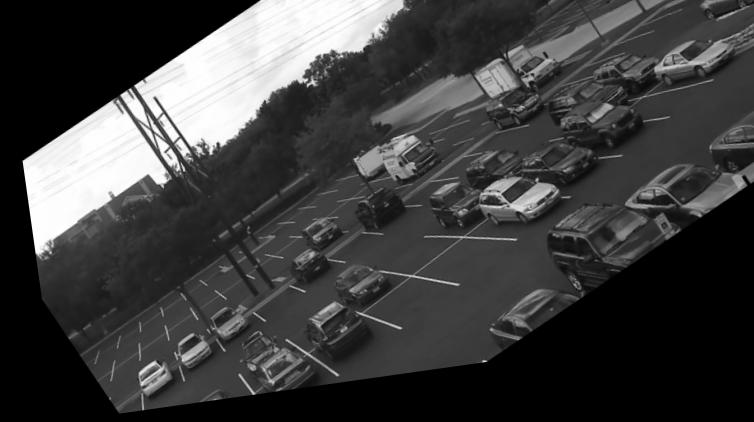empty: (409, 254, 504, 300), (368, 228, 449, 281), (355, 288, 435, 332), (626, 104, 706, 138), (241, 289, 298, 330), (174, 366, 224, 406), (614, 34, 663, 61), (273, 309, 313, 342), (427, 164, 476, 190), (465, 141, 519, 164), (322, 243, 371, 268), (592, 56, 637, 78), (157, 316, 190, 346), (95, 373, 128, 403), (423, 361, 474, 380), (399, 187, 439, 211), (560, 76, 602, 98), (208, 282, 248, 305), (238, 262, 278, 284), (130, 334, 161, 362), (184, 300, 218, 325), (417, 134, 460, 153), (181, 290, 211, 316), (227, 258, 262, 280), (517, 140, 555, 160), (101, 353, 128, 381), (129, 324, 157, 350), (154, 306, 182, 332), (321, 206, 357, 226), (169, 282, 200, 304), (253, 241, 286, 260), (204, 276, 235, 296), (129, 347, 158, 368), (265, 244, 295, 264), (305, 205, 336, 224), (189, 270, 218, 290), (151, 294, 175, 318), (104, 395, 132, 415), (347, 188, 382, 204), (276, 225, 308, 242), (105, 342, 128, 364), (328, 190, 360, 205), (249, 227, 283, 241), (130, 310, 153, 330), (331, 215, 352, 236), (80, 359, 103, 377), (111, 325, 129, 346), (318, 185, 347, 198), (276, 215, 307, 227), (90, 339, 106, 360), (267, 265, 286, 282), (298, 201, 326, 212), (72, 350, 88, 368), (85, 370, 101, 387)
occupied: (541, 219, 675, 303), (613, 183, 753, 239), (464, 298, 572, 362), (471, 190, 556, 245), (294, 308, 369, 368), (554, 115, 632, 169), (649, 58, 732, 105), (517, 155, 597, 201), (239, 349, 310, 399), (480, 95, 541, 145), (373, 145, 436, 193), (703, 128, 754, 184), (543, 95, 611, 136), (325, 272, 386, 317), (346, 196, 403, 241), (589, 71, 652, 110), (421, 194, 472, 241), (459, 161, 517, 202), (697, 0, 754, 40), (280, 256, 324, 292), (126, 361, 164, 402), (229, 337, 264, 379), (293, 225, 334, 259), (201, 312, 240, 347), (167, 337, 202, 373)
